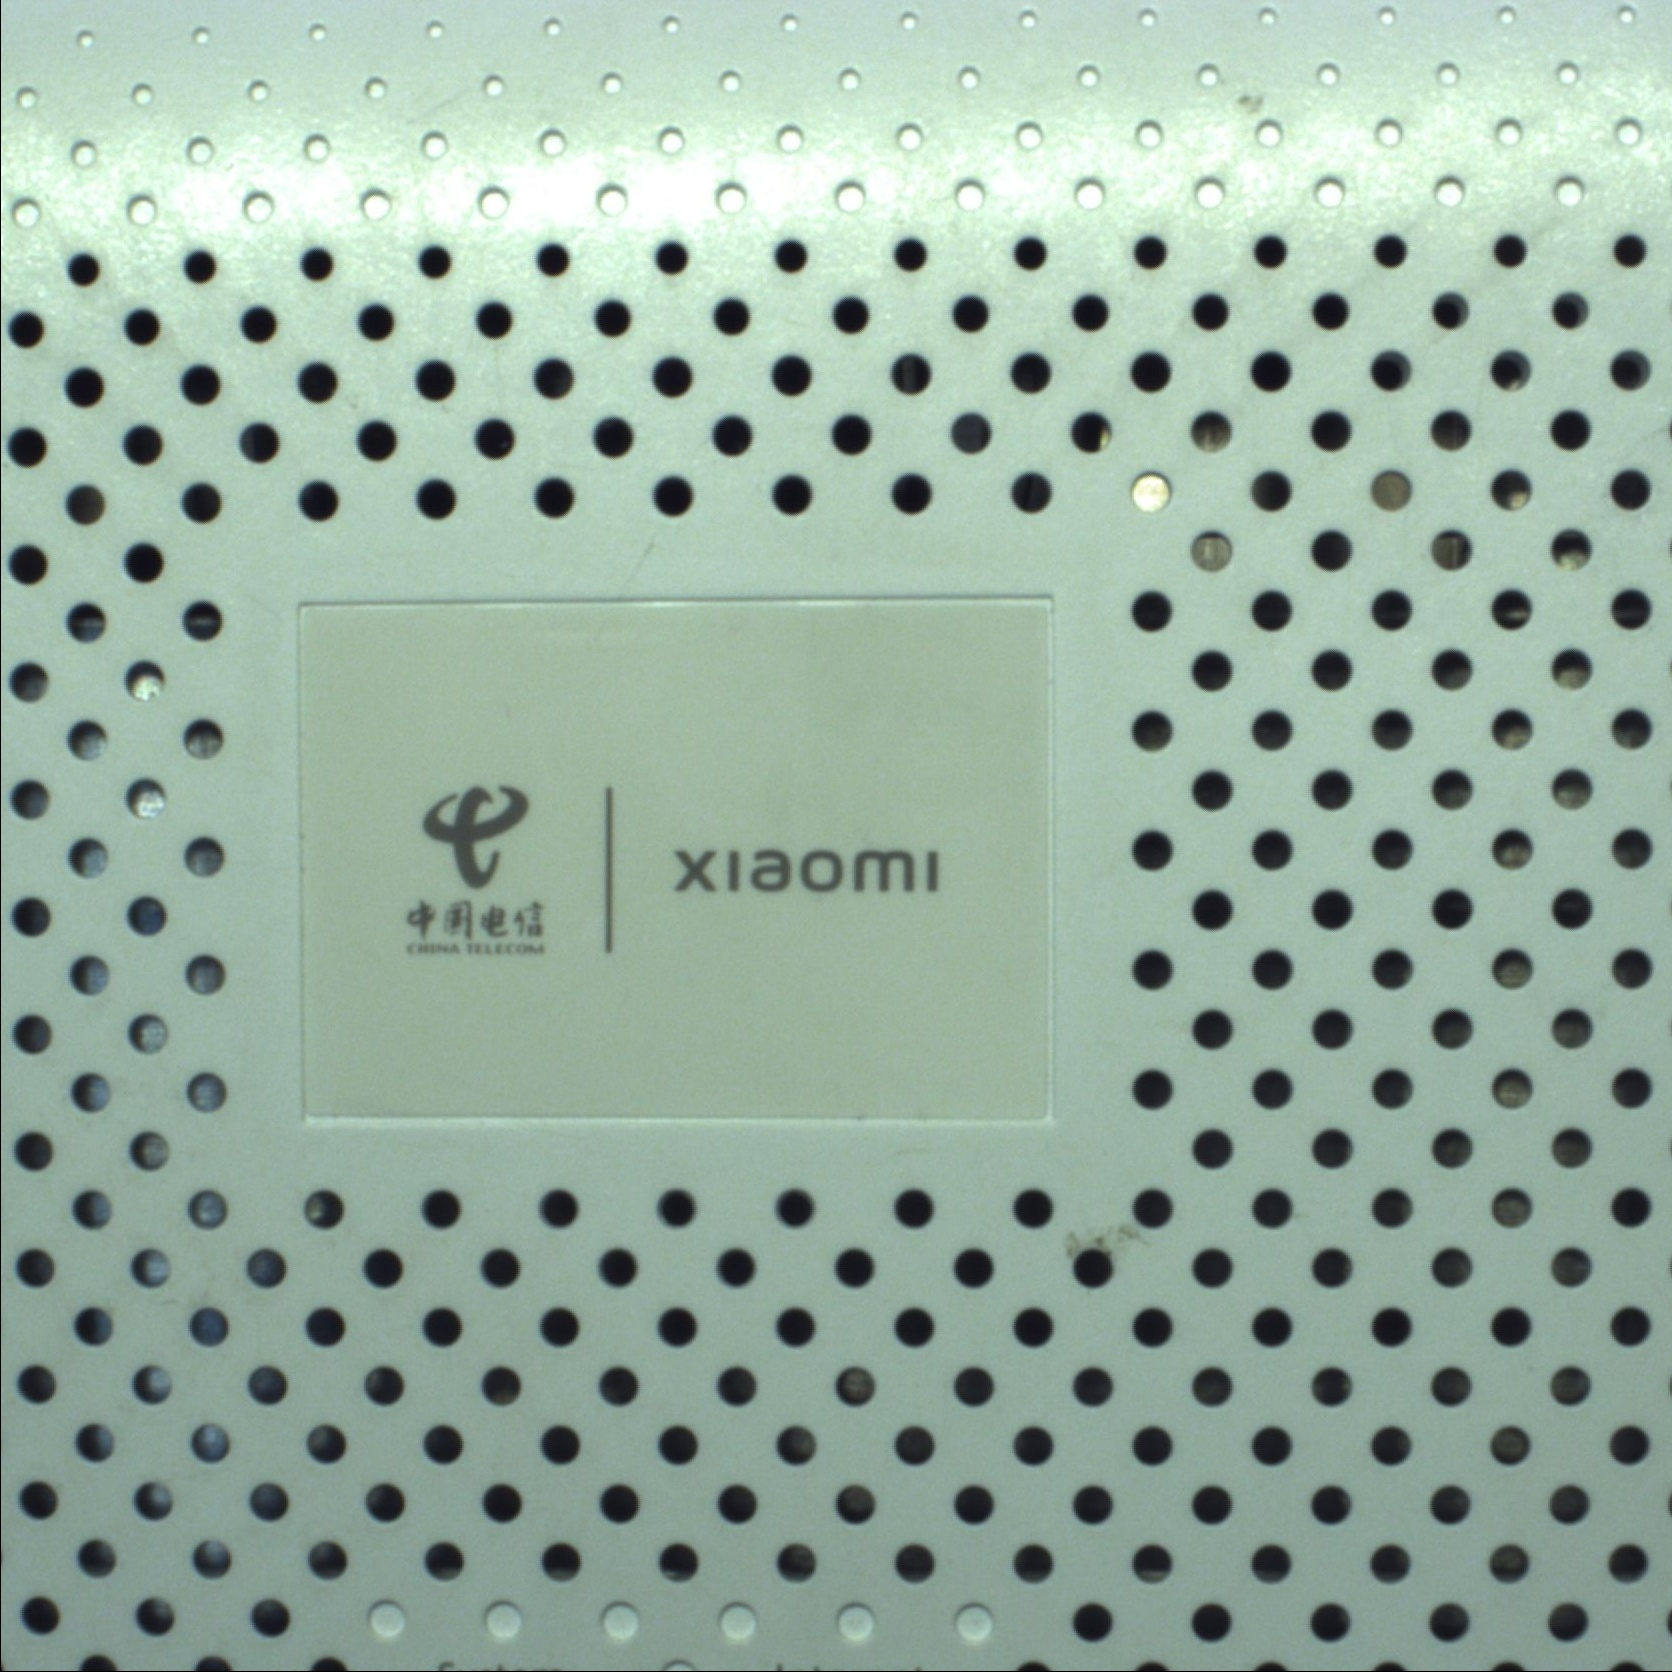MAA_Telecom: (386, 767, 962, 965)
